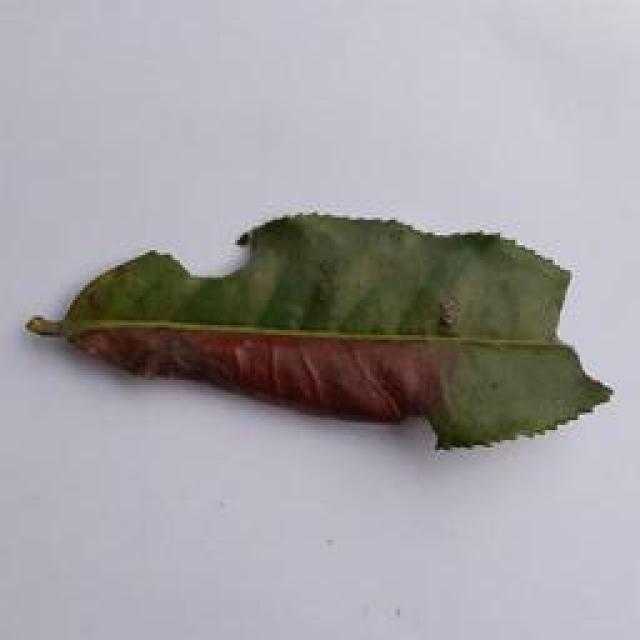Red Leaf Spot: (0, 203, 625, 455)
